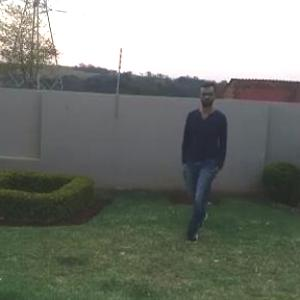follow: (179, 82, 229, 235)
